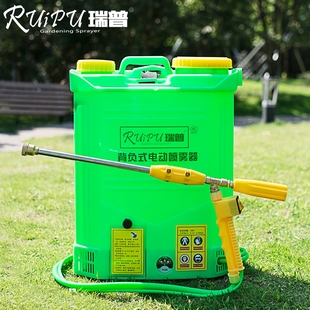berrl: (63, 49, 249, 284)
